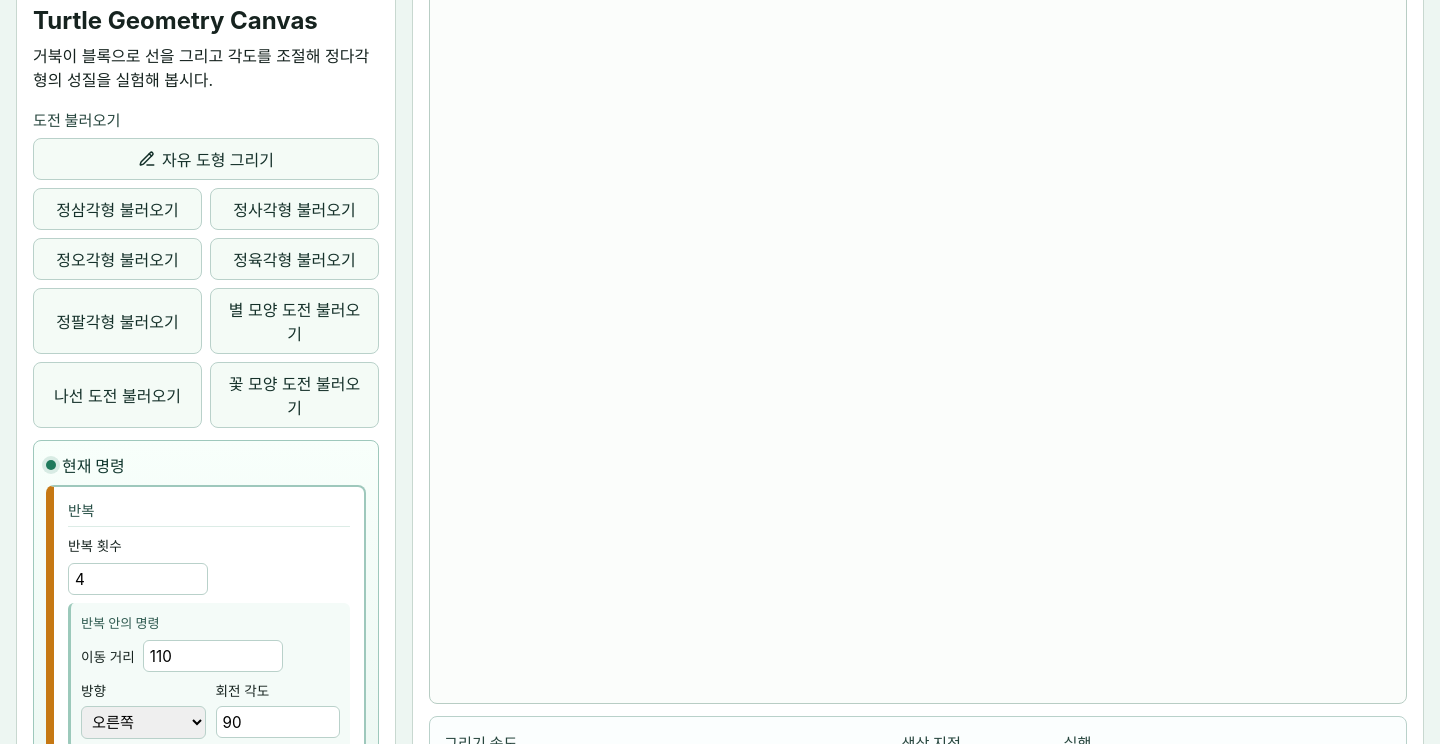
Test: App › starts free drawing and adds move and turn commands with custom values
This screenshot has width=1440, height=744.
Click the button "자유 도형 그리기": {"x": 206, "y": 159} [33,138,379,180]
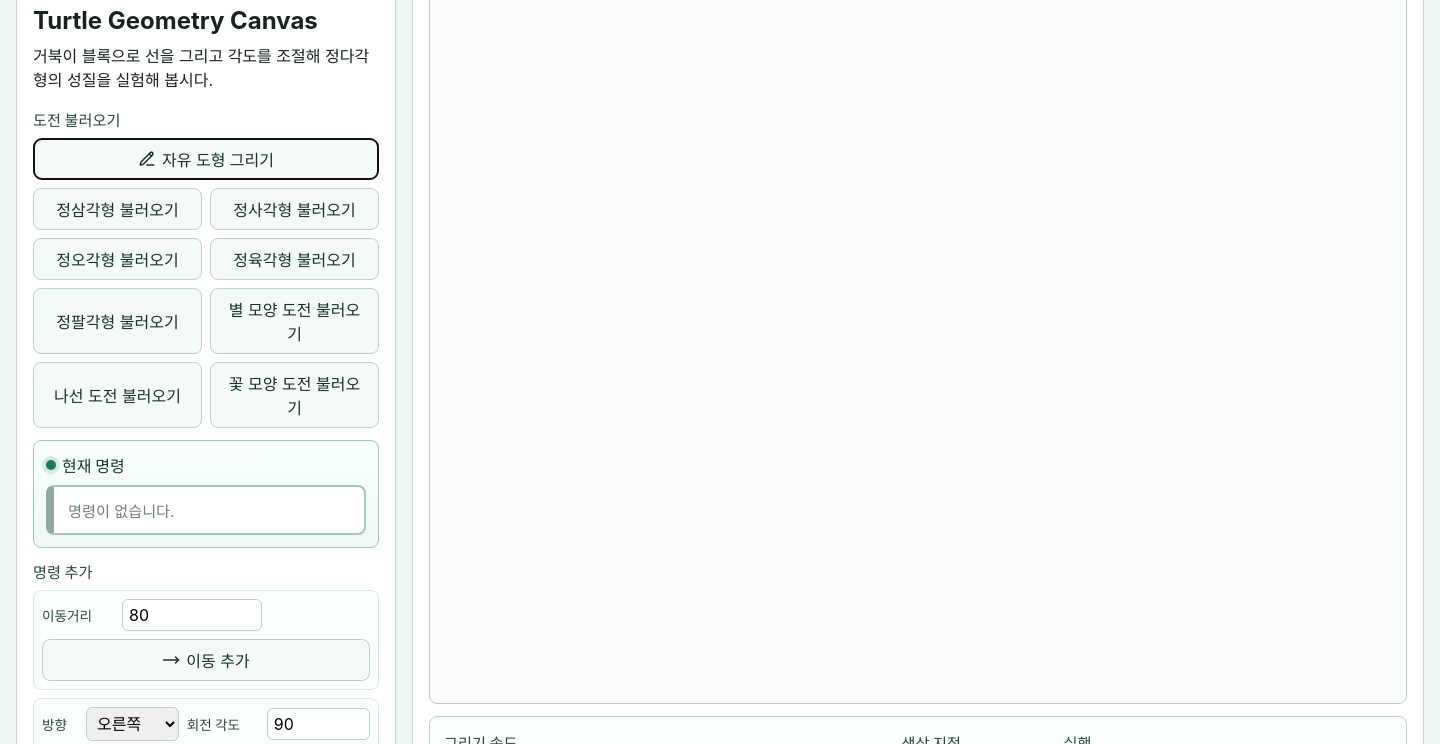
Check: the list item "명령이 없습니다." is shown, box [46,485,366,535]
Replace the text in the number field labelled "이동거리" with "120": {"x": 192, "y": 615} [122,599,262,631]
Click the button "이동 추가": {"x": 206, "y": 660} [42,639,370,681]
(page scrolled)
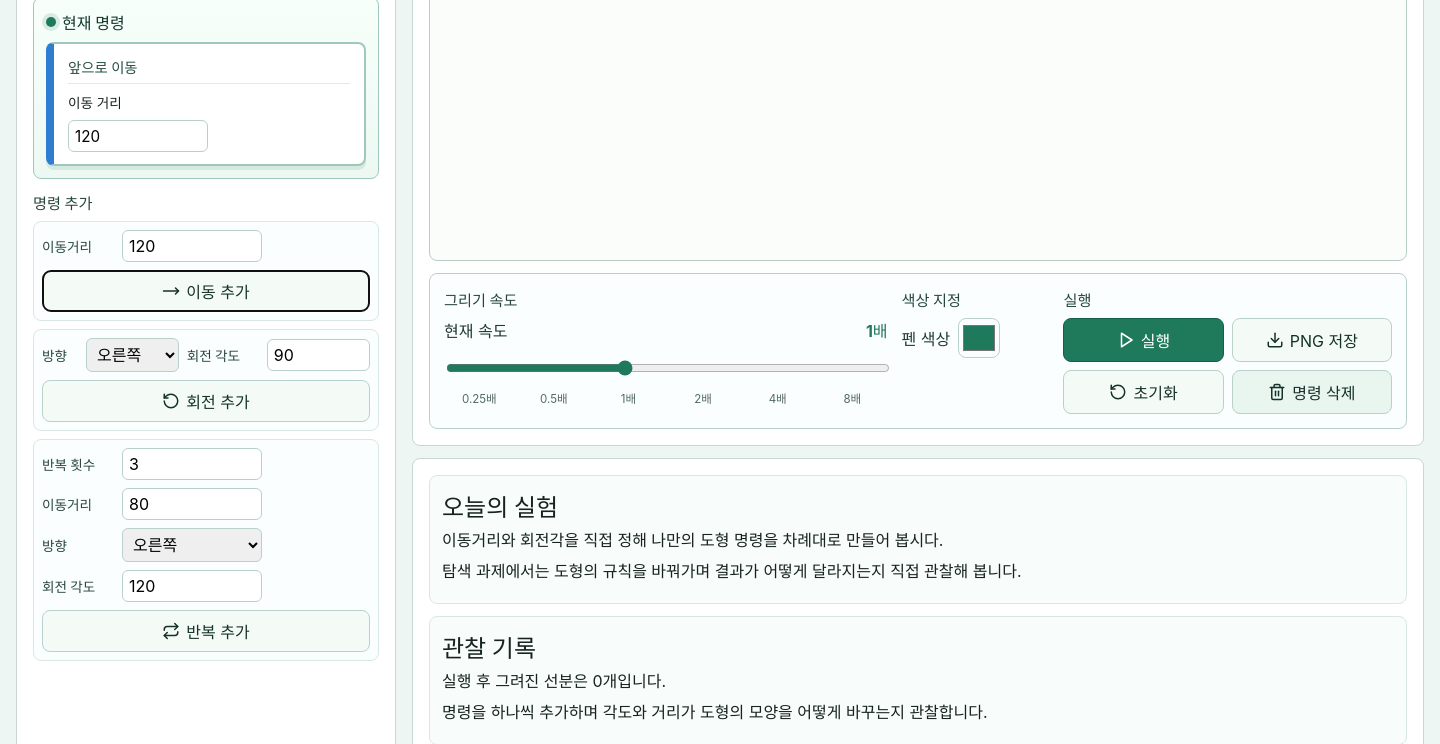
Replace the text in the 1st number field labelled "회전 각도" with "45": {"x": 318, "y": 355} [267,339,370,371]
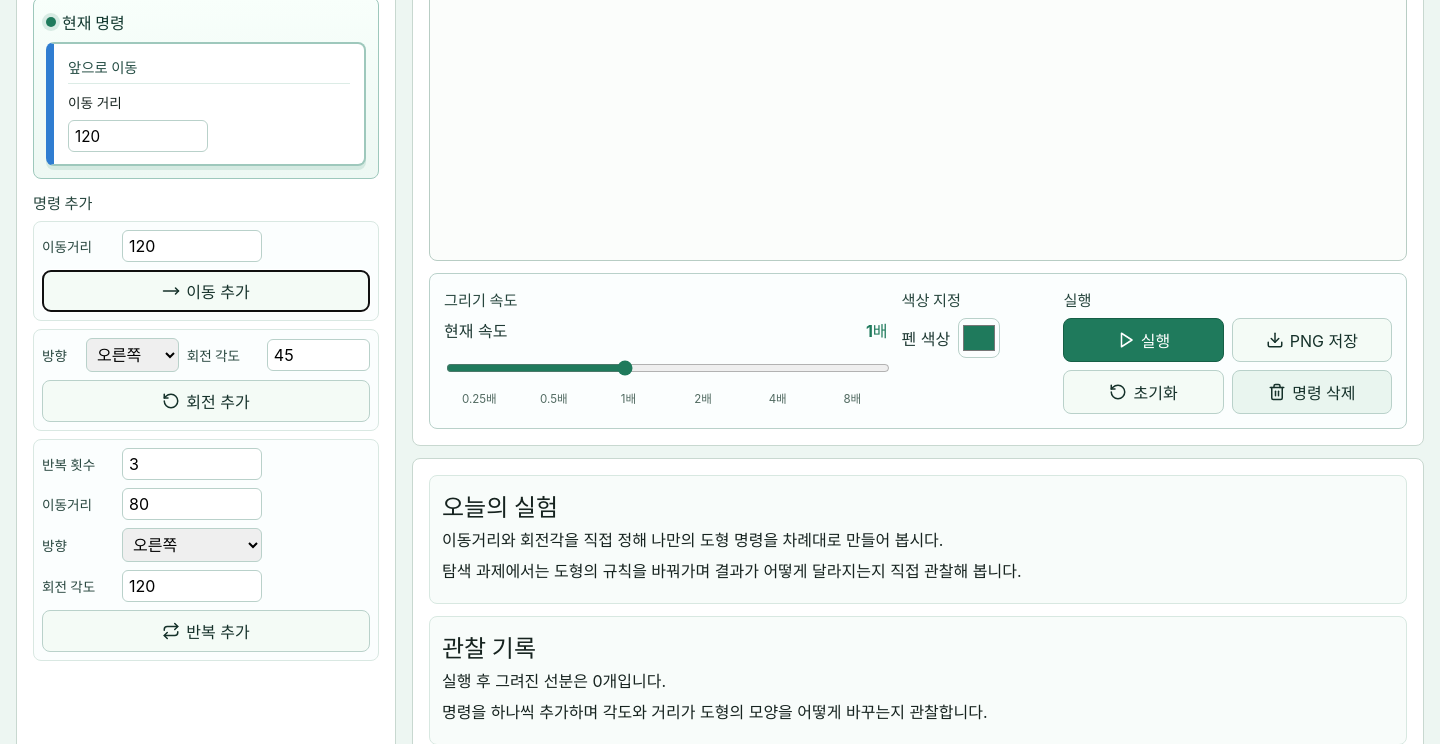
Select "왼쪽" in the 1st dropdown labelled "방향": {"x": 132, "y": 355} [86,338,179,372]
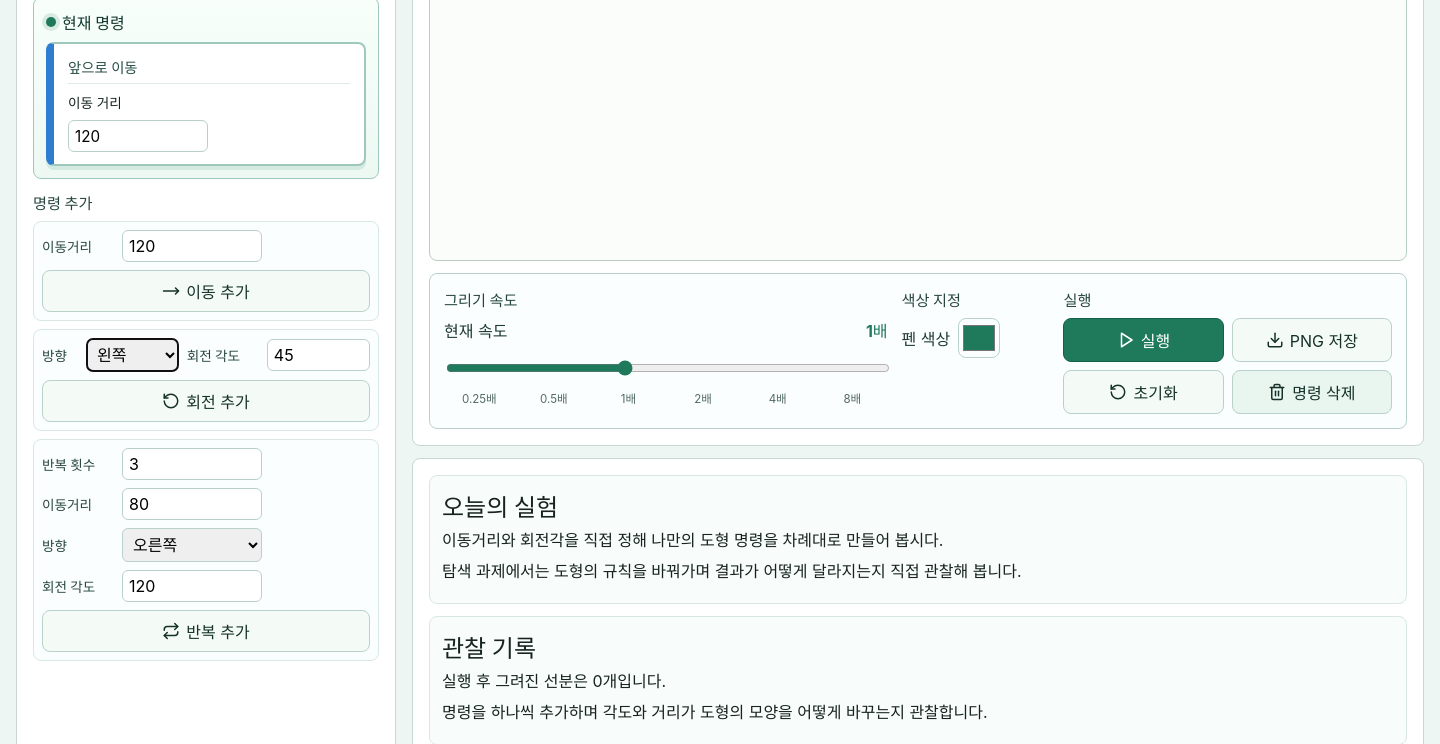
Click the button "회전 추가": {"x": 206, "y": 401} [42,380,370,422]
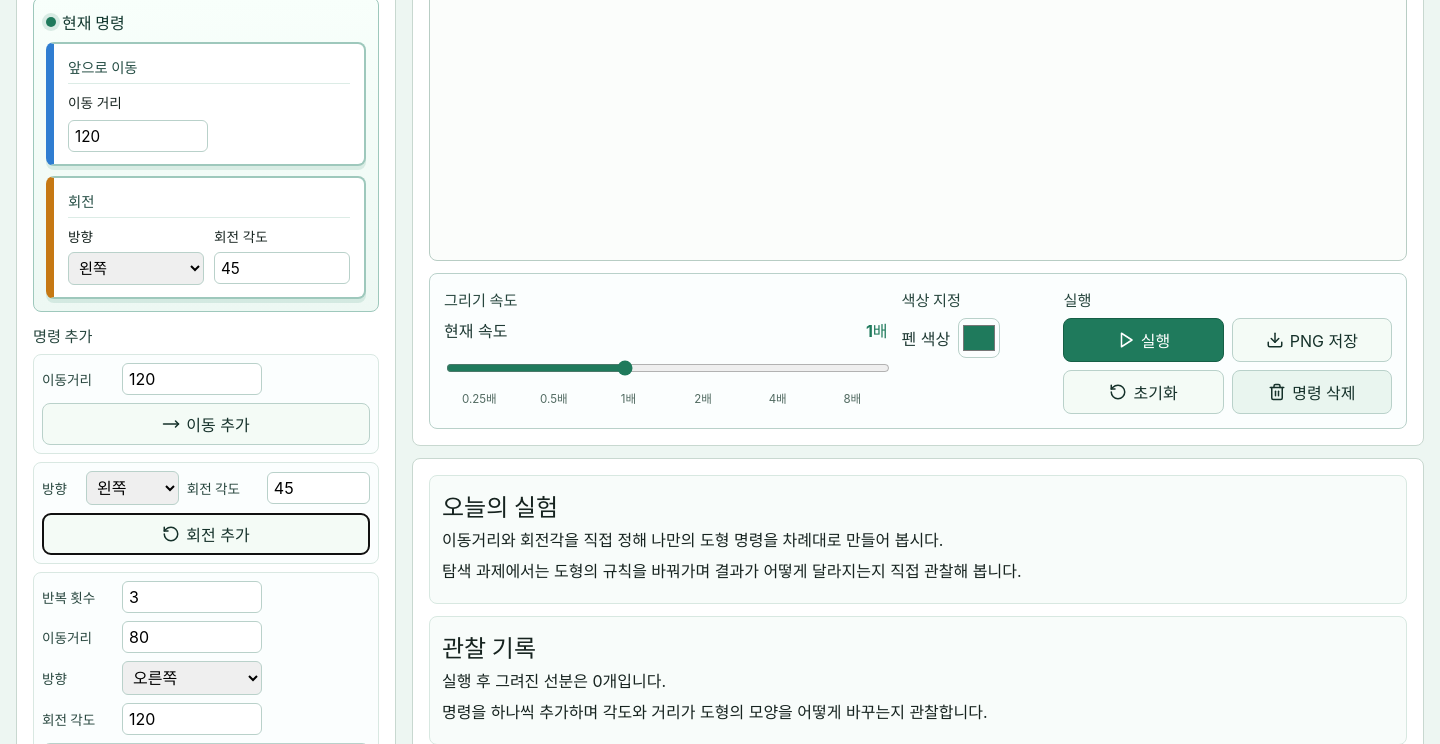
Check: the number field showing "120" is shown, box [68,120,208,152]
Check: the number field showing "45" below "이동 거리" is shown, box [214,252,350,284]
Check: the dropdown labelled "방향" below "이동 거리" shows "왼쪽", box [68,252,204,285]
Click the button "실행": {"x": 1144, "y": 340} [1063,318,1224,362]
(page scrolled)
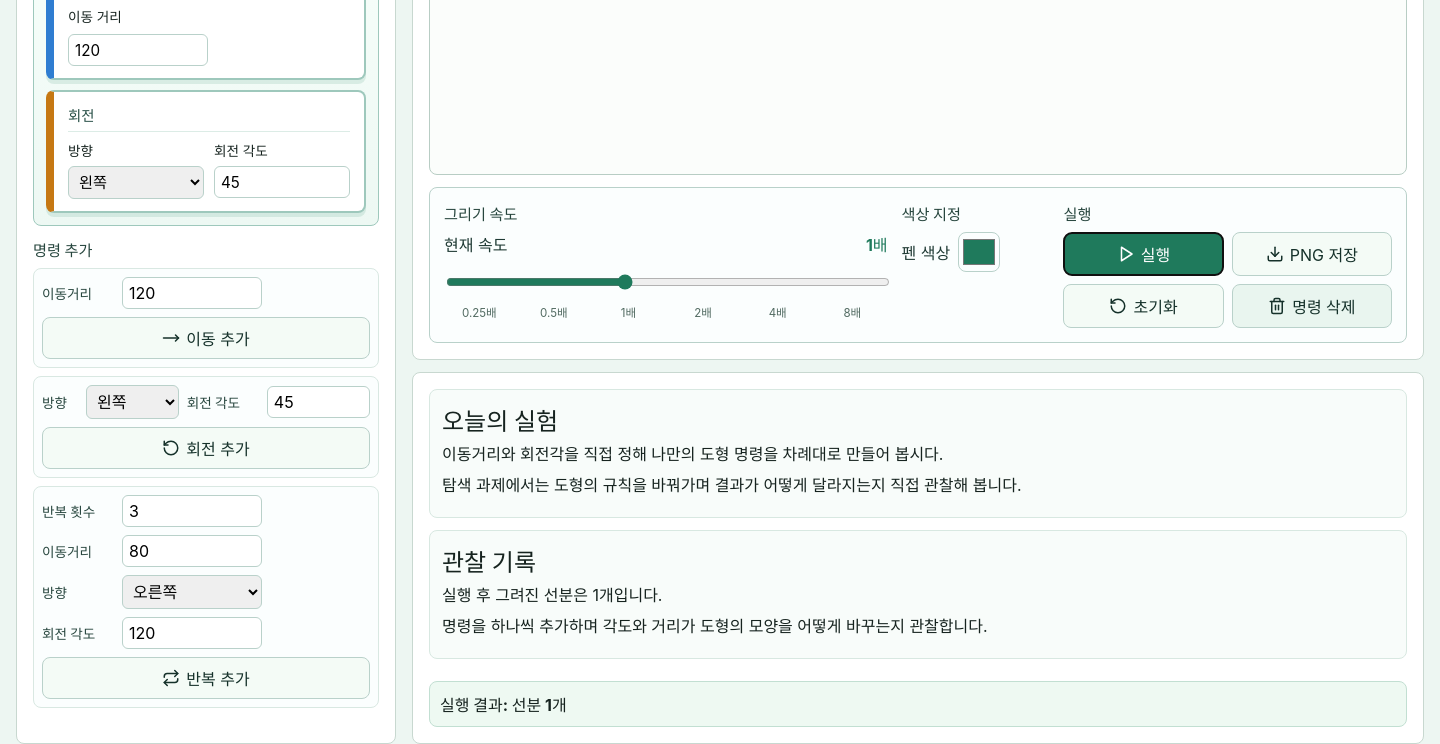
Check: the message reads "실행 결과: 선분 1개", box [429,681,1407,727]
